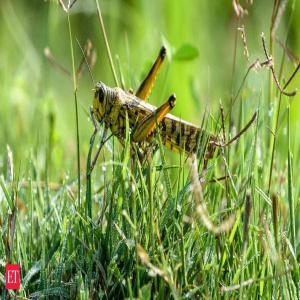locust: (83, 42, 220, 163)
